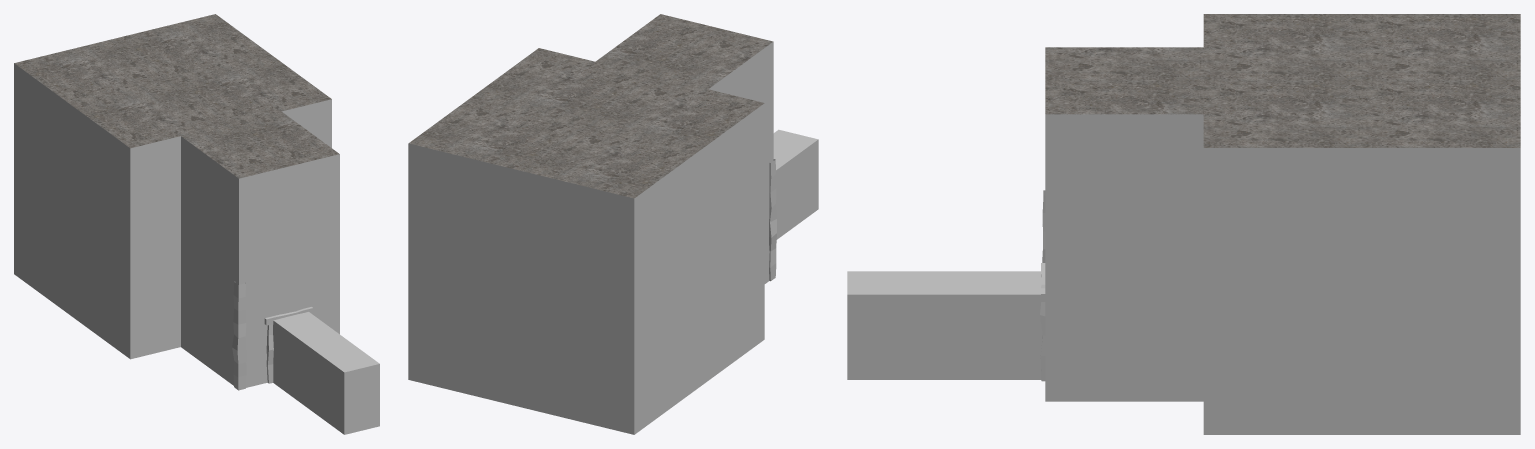
The model's file is Small room.fbx.
The picture shows the model from 3 angles, left to right: view 1: azimuth 30°, elevation 25°; view 2: azimuth 150°, elevation 25°; view 3: azimuth 270°, elevation 25°; orthographic projection. The views are drawn at different scales.
Parts seen in each view (by area): view 1: Room, Wood, Wood frame; view 2: Room, Wood; view 3: Room.
Part boxes in pixels (bbox=[...]): Room: bbox=[14, 14, 379, 434]; Wood: bbox=[232, 281, 246, 390]; Wood frame: bbox=[264, 307, 313, 383]; Room: bbox=[408, 14, 818, 434]; Wood: bbox=[769, 159, 776, 281]; Room: bbox=[847, 14, 1520, 434].
Bounding box in the file's own units: 8 × 8 × 17.
